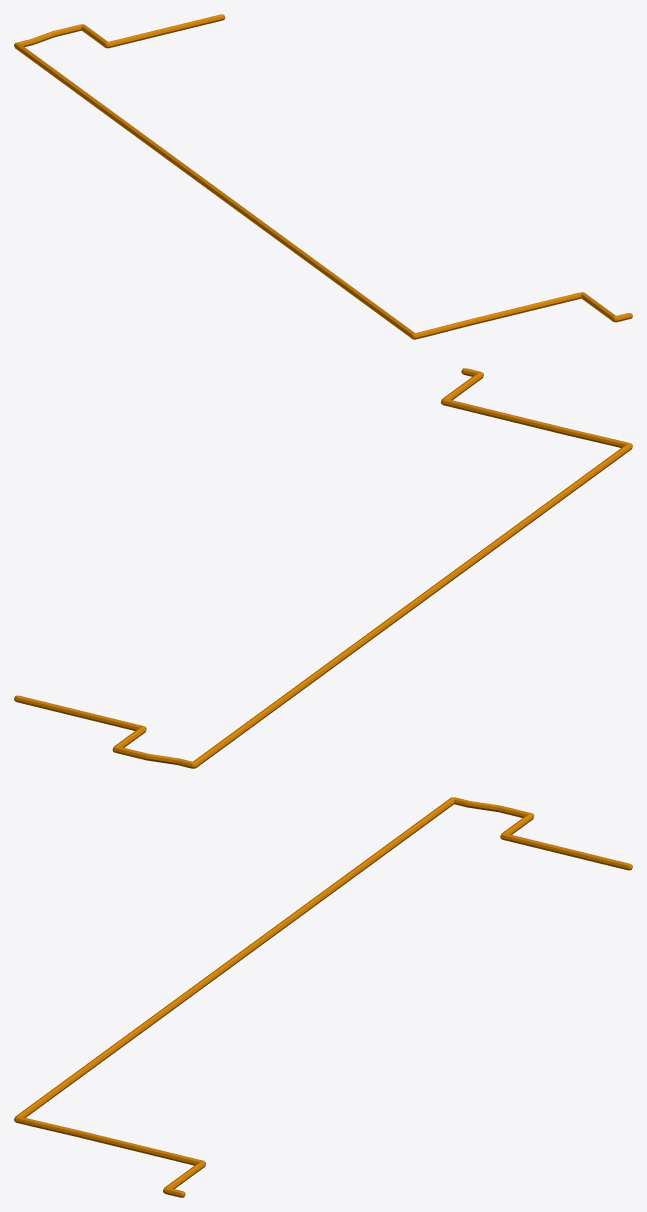
3 views of the same model, one above another, from view 1: azimuth 30°, elevation 25°; view 2: azimuth 150°, elevation 25°; view 3: azimuth 330°, elevation 25° (orthographic). The views are drawn at different scales.
Size of the model in its own units: 658 by 20 by 2633.
